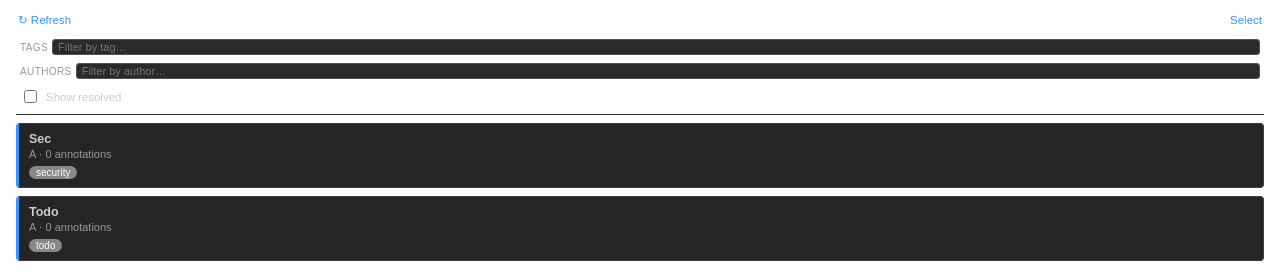
it: App.svelte › filters by tag selected from the dropdown
This screenshot has width=1280, height=278.
Click the dropdown with test id "picker-input-Tags" at (656, 47), box [52,39,1260,55]
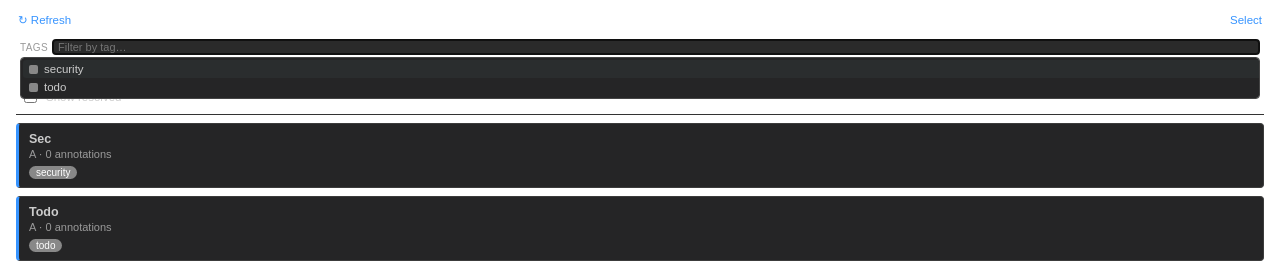
Click the option "security" at (64, 69), box [23,60,1269,78]
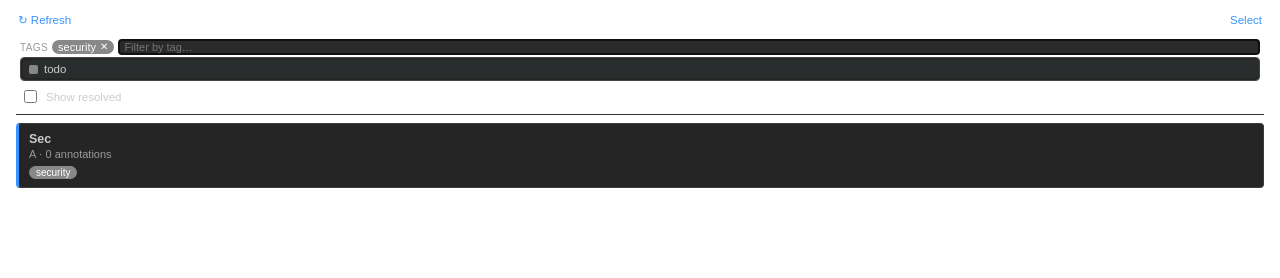
Expected: the button with test id "group-card" shows "Sec", [16,123,1264,188]
Expected: the number of buttons with test id "group-card" is 1, [16,123,1264,188]
